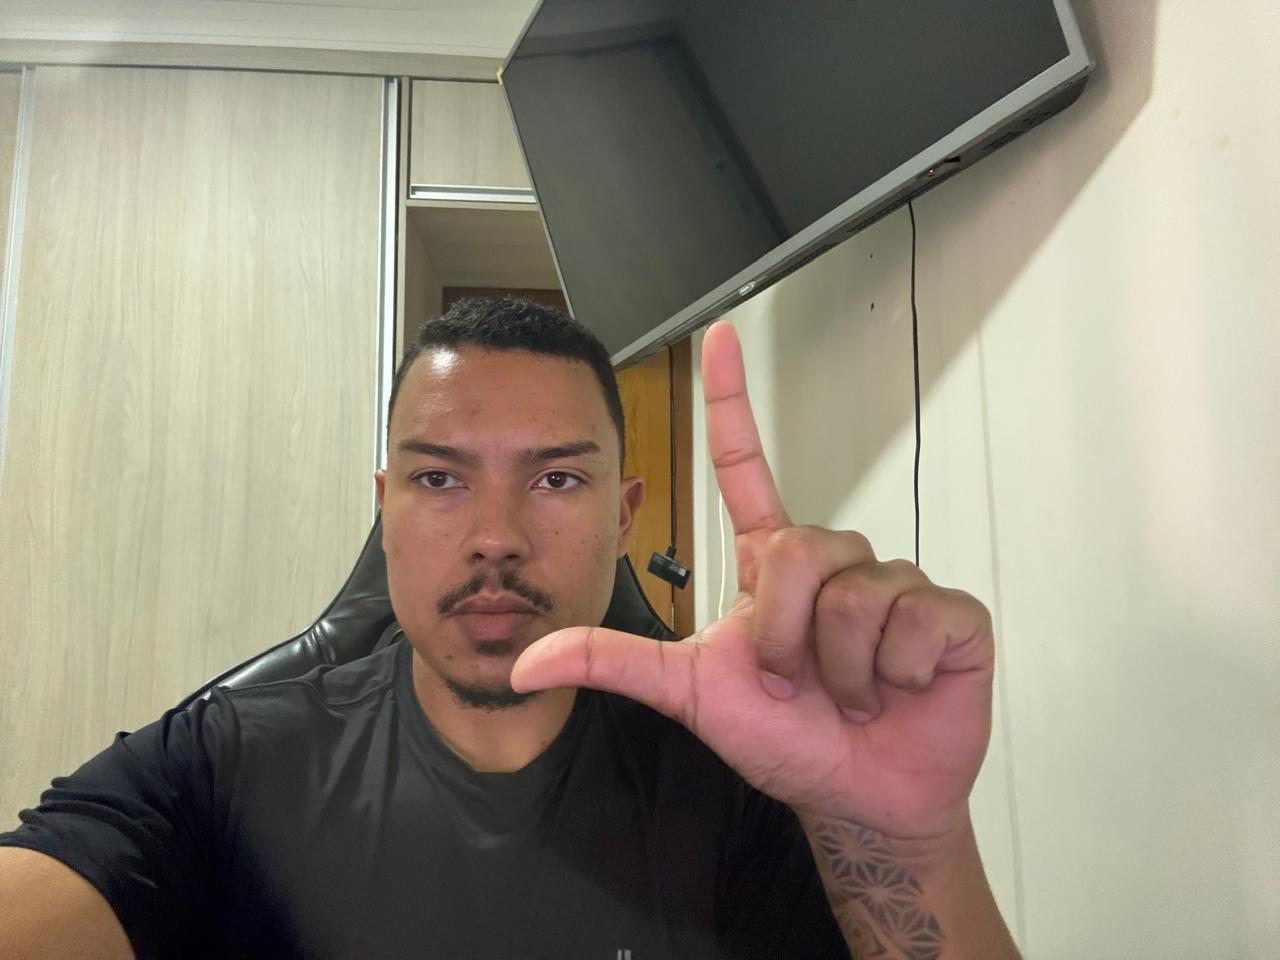l: (504, 302, 1012, 851)
